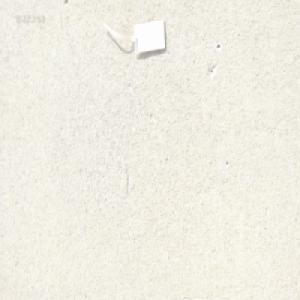LuggageTag: (99, 16, 168, 59)
